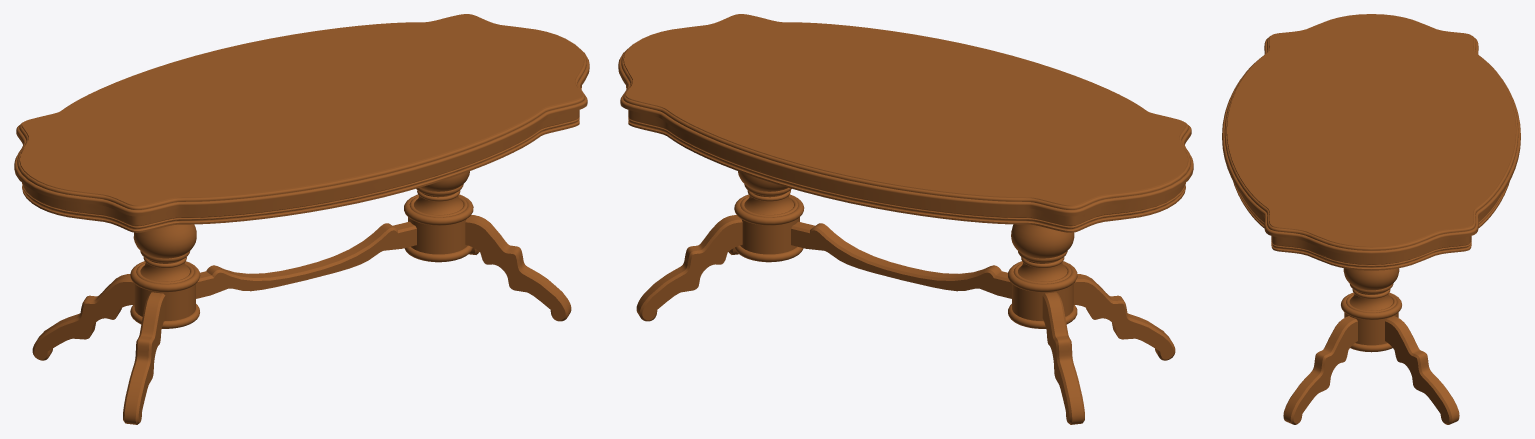
The model's file is 418_living_table.fbx.
3 renders of one model, left to right at view 1: azimuth 30°, elevation 25°; view 2: azimuth 150°, elevation 25°; view 3: azimuth 270°, elevation 25°, orthographic. The views are drawn at different scales.
Visible parts, largest first — view 1: 418_リビングテーブル; view 2: 418_リビングテーブル; view 3: 418_リビングテーブル.
Boxes of the visible parts, x1,y1,x2,y2 form: 418_リビングテーブル: (14, 14, 589, 424); 418_リビングテーブル: (618, 14, 1193, 424); 418_リビングテーブル: (1222, 14, 1520, 424).
Size of the model in its own units: 141 by 56 by 75.48.
